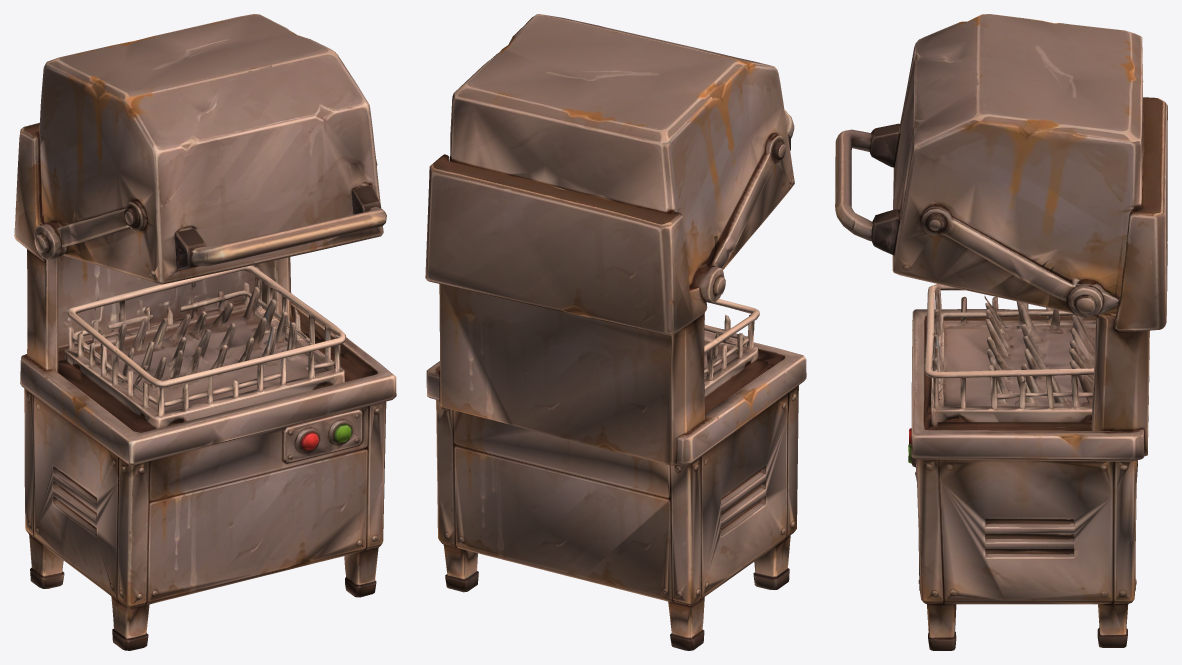
Rendered from d_dishwasher.glb.
3 views of the same model, side by side, from view 1: azimuth 30°, elevation 25°; view 2: azimuth 150°, elevation 25°; view 3: azimuth 270°, elevation 25° (orthographic).
Size of the model in its own units: 1.02 by 1.9 by 1.08.
1 material, 1 textured.
